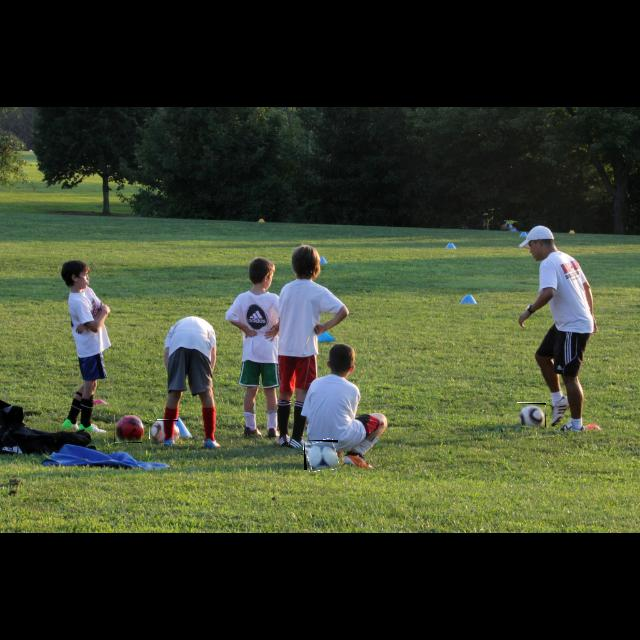Football: (304, 440, 338, 470), (114, 415, 142, 443), (516, 403, 546, 427), (150, 420, 178, 444)
